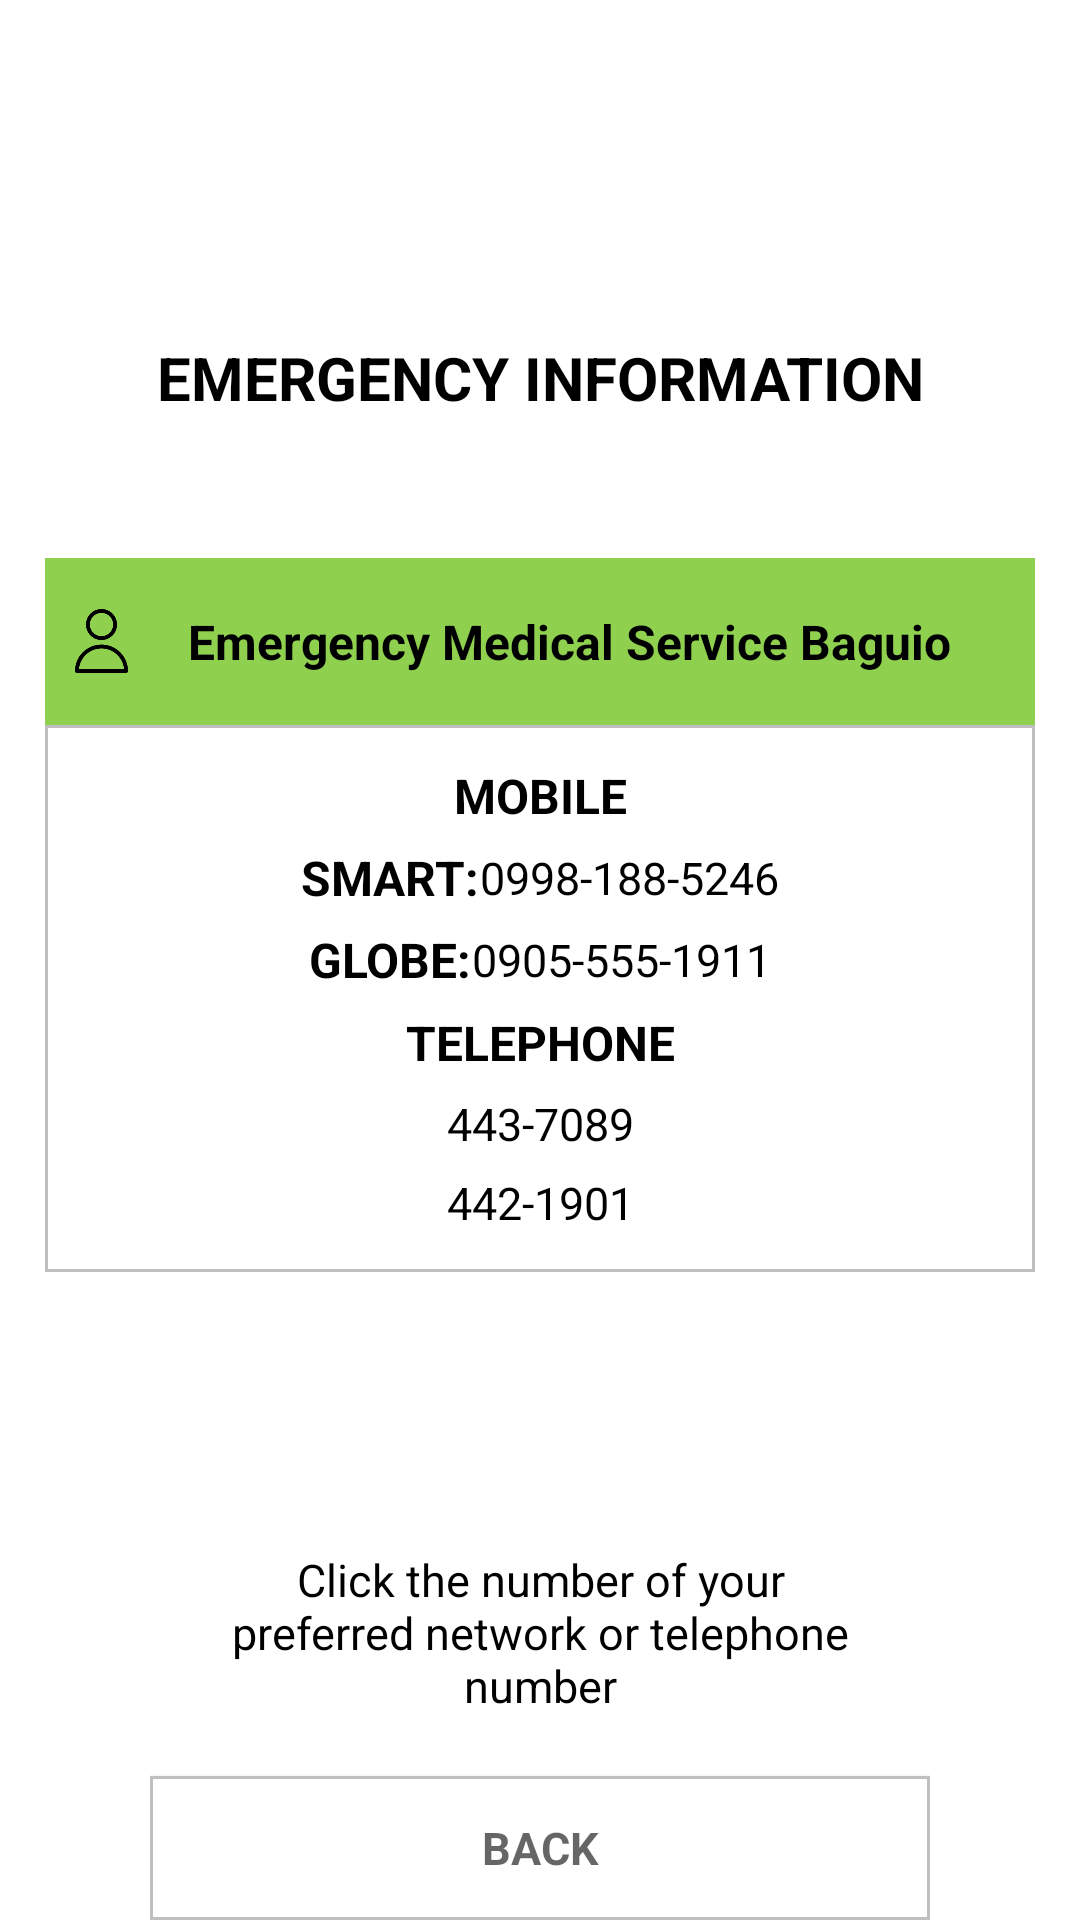

Where icons sit on this 1080 × 1920 app screen, as (x1, y1, x2, y2):
account: (75, 609, 128, 673)
